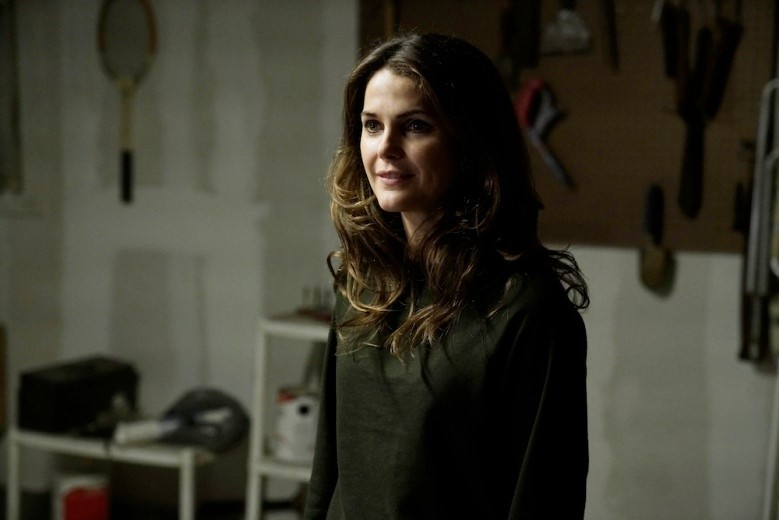face_no_mask: (352, 35, 493, 211)
